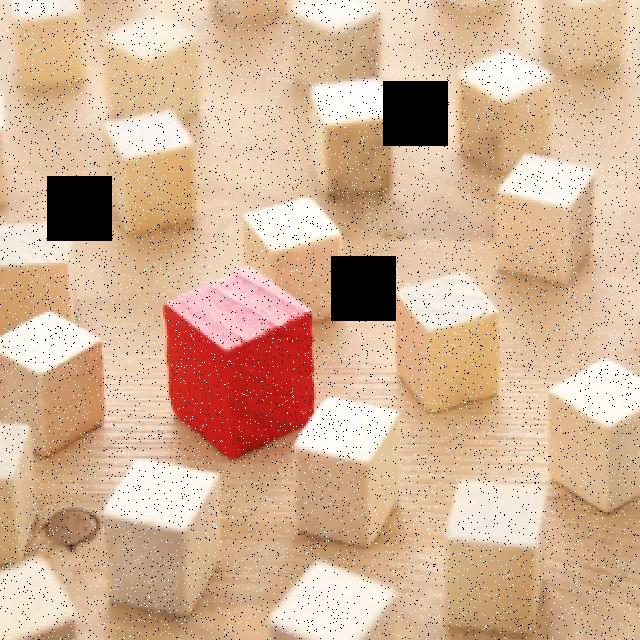red cube: (163, 261, 313, 460)
